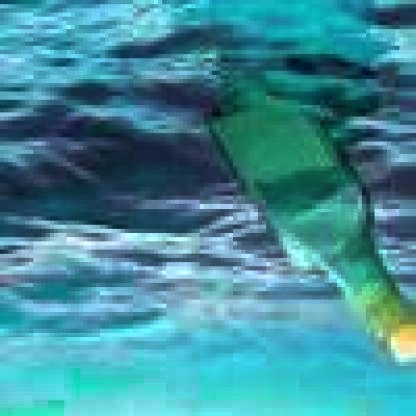gbottle: (212, 75, 416, 362)
